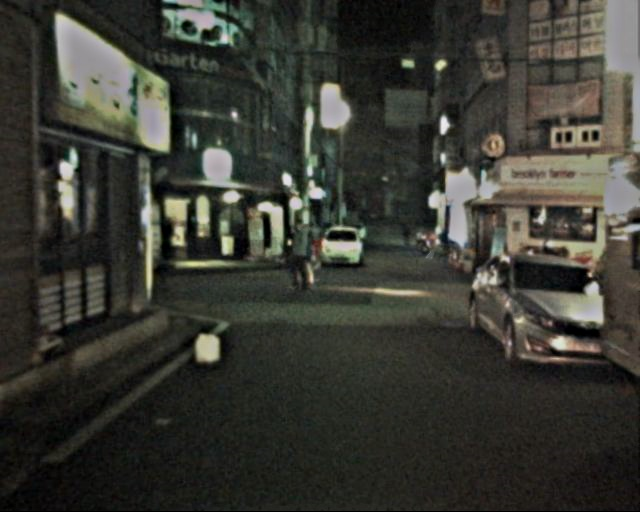person: (285, 219, 317, 296)
